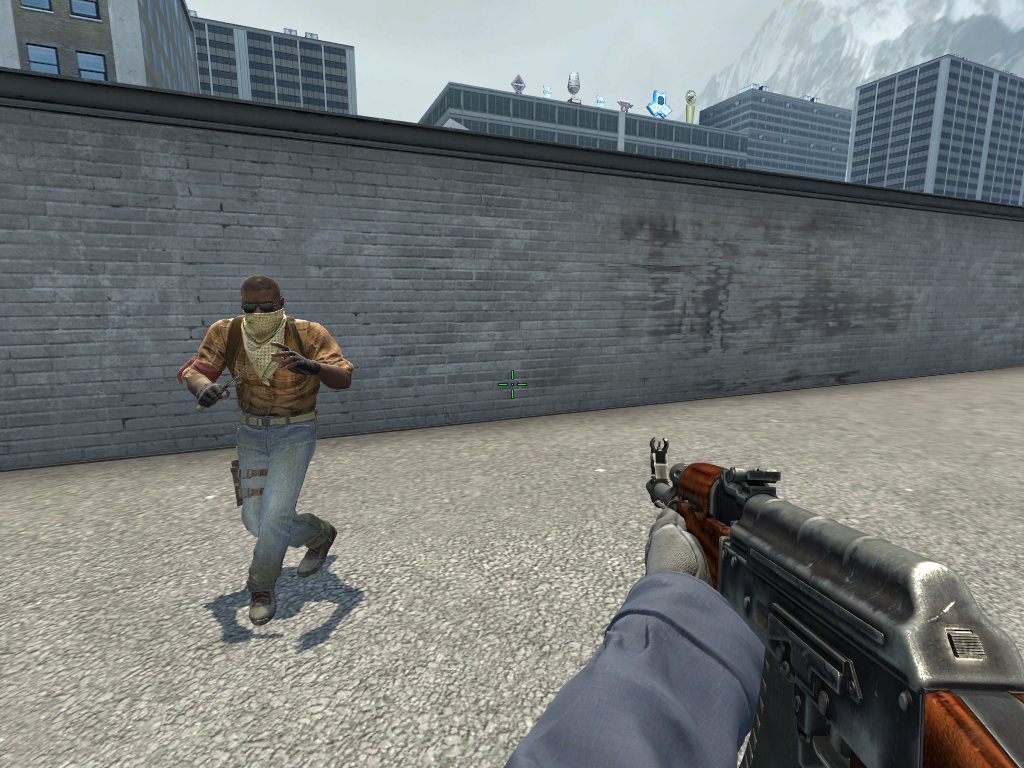tr head: (235, 272, 288, 342)
